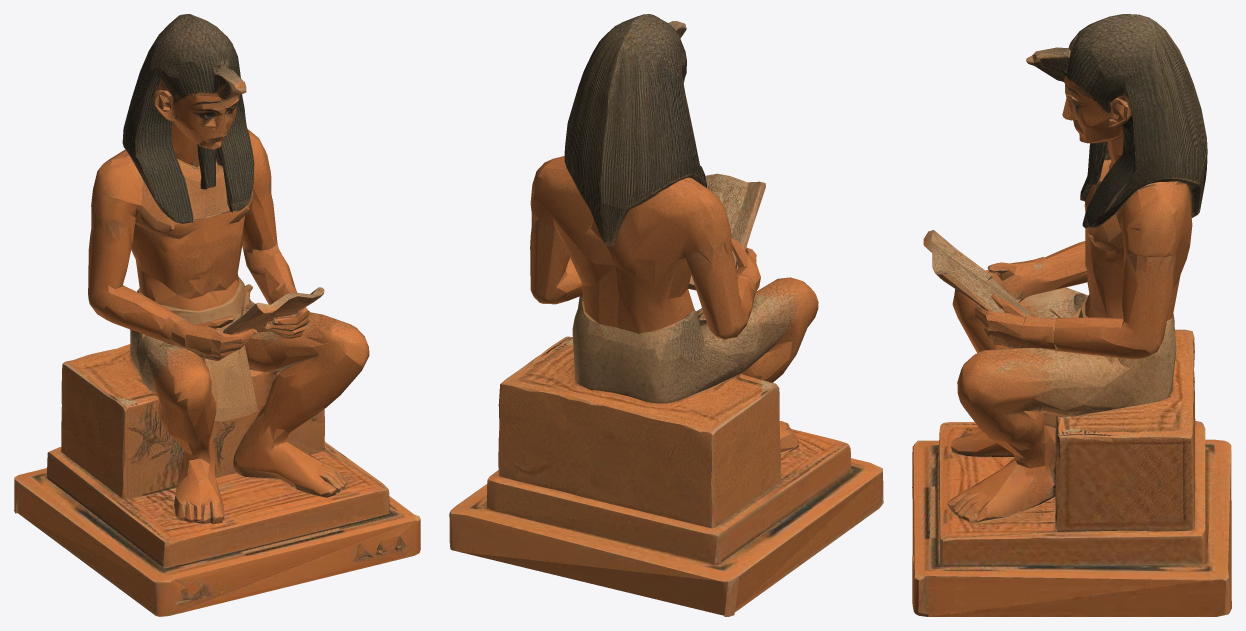
Rendered from scribe.glb.
3 renders of one model, left to right at view 1: azimuth 30°, elevation 25°; view 2: azimuth 150°, elevation 25°; view 3: azimuth 270°, elevation 25°, orthographic. The views are drawn at different scales.
Visible parts, largest first — view 1: mesh_node; view 2: mesh_node; view 3: mesh_node.
Part boxes in pixels (x1,y1,x2,y2): mesh_node: (14,14,420,616); mesh_node: (449,14,883,616); mesh_node: (912,14,1231,616).
Bounding box in the file's own units: 1.07 × 1.9 × 1.03.
1 material, 1 textured.
